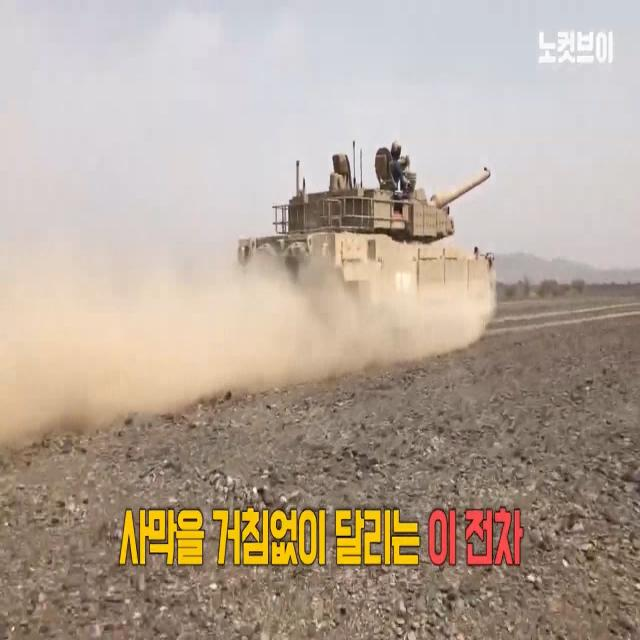korea tank: (238, 140, 494, 358)
